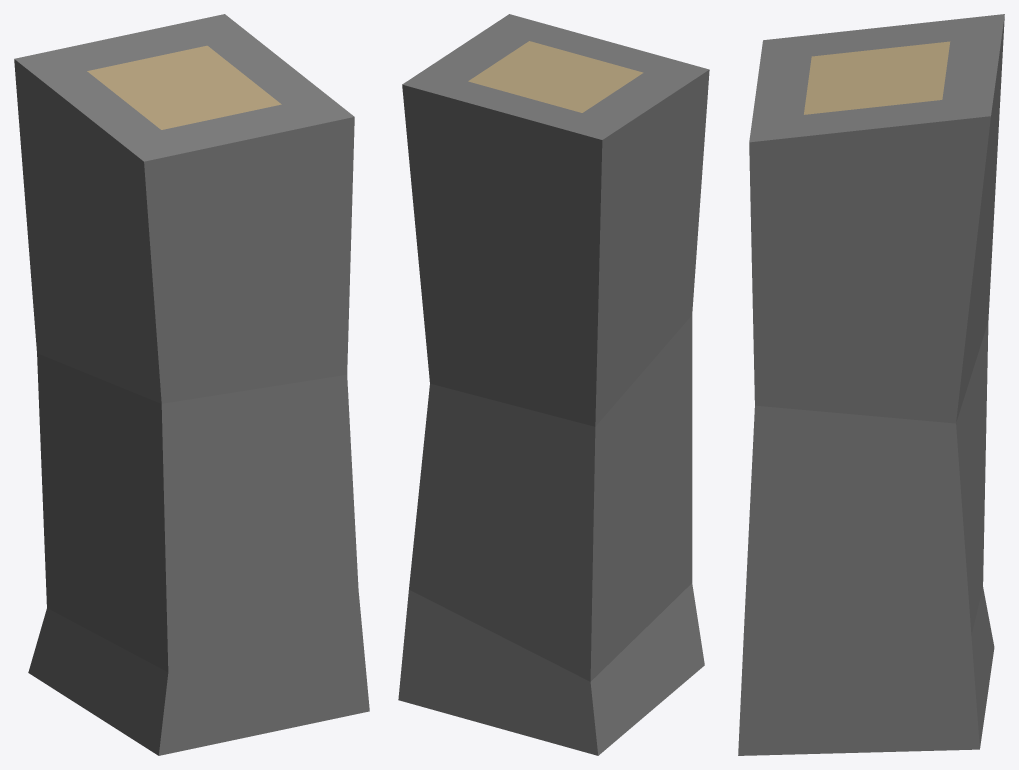
File: Pillar_Square_3.fbx
3 views of the same model, side by side, from view 1: azimuth 30°, elevation 25°; view 2: azimuth 150°, elevation 25°; view 3: azimuth 270°, elevation 25° (orthographic). The views are drawn at different scales.
Parts seen in each view (by area): view 1: Box003; view 2: Box003; view 3: Box003.
Part boxes in pixels (<box>): Box003: <box>14,14,369,755</box>; Box003: <box>398,14,709,755</box>; Box003: <box>738,14,1004,755</box>.
Size of the model in its own units: 16.38 by 42.46 by 16.32.
